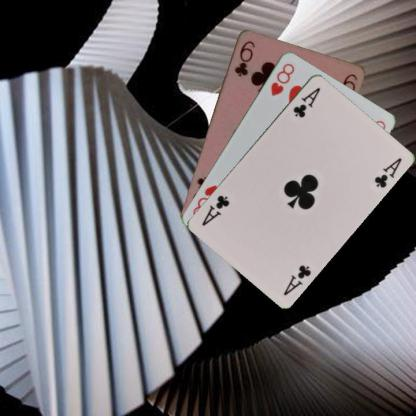6c: (232, 38, 256, 78)
8h: (267, 60, 296, 97)
Ac: (280, 262, 313, 296), (290, 84, 322, 119)
